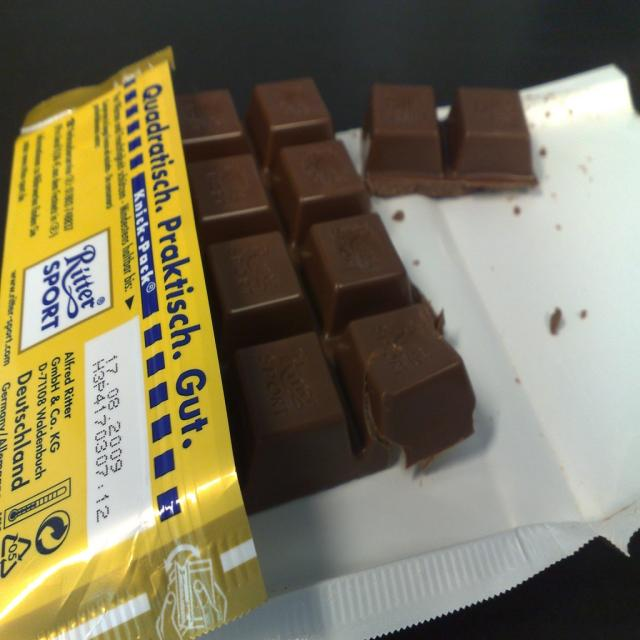rittersport: (20, 230, 112, 354)
